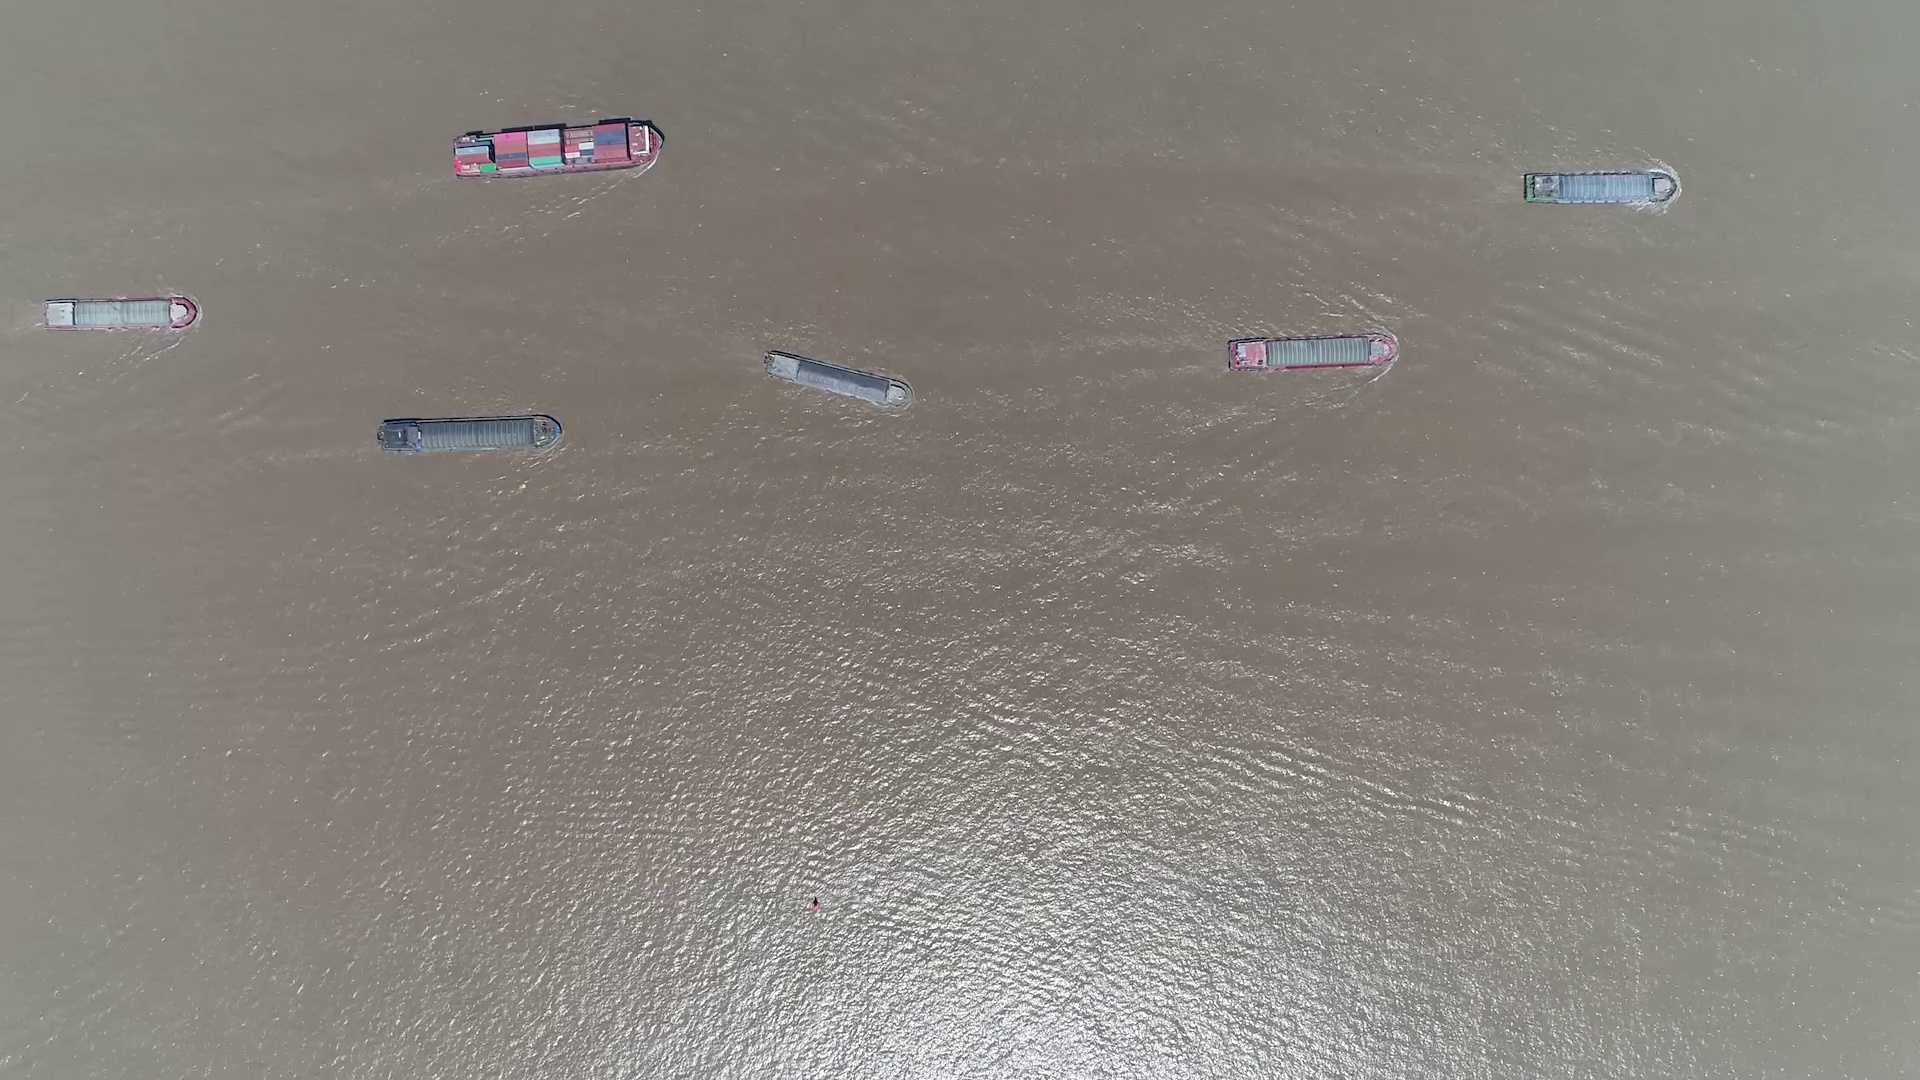ship: (450, 123, 659, 178), (764, 349, 913, 407), (377, 415, 558, 454), (1226, 334, 1398, 372), (1524, 173, 1673, 206), (42, 298, 196, 330)
